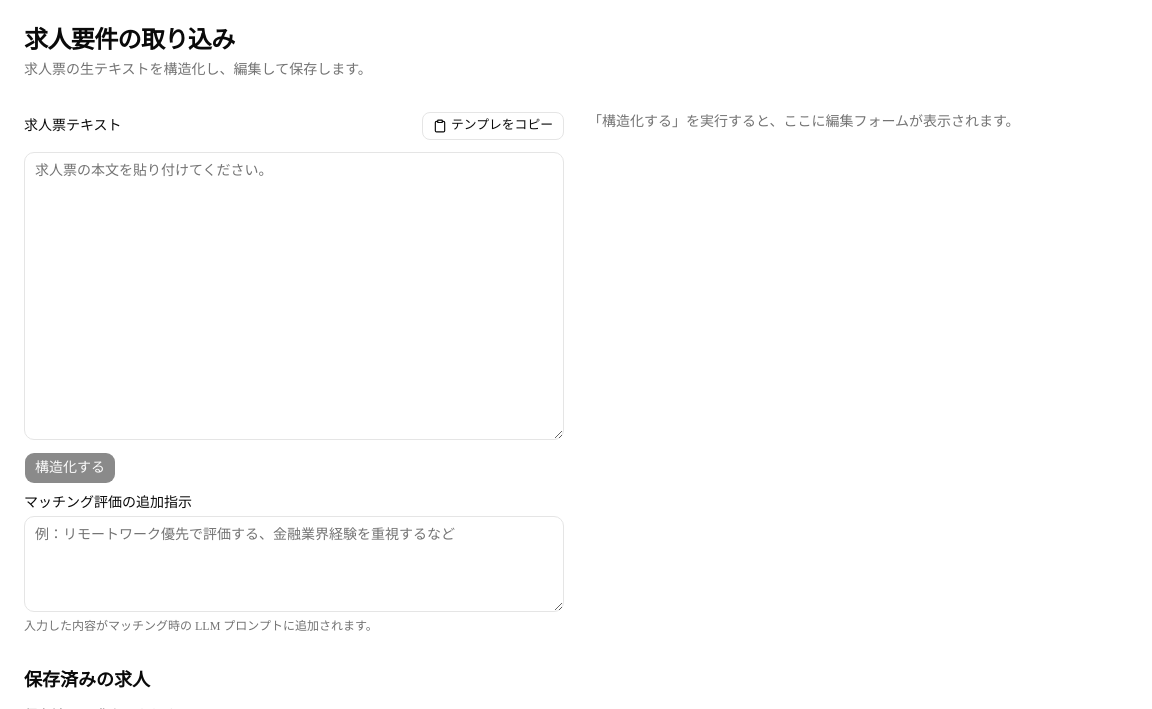
Scenario: parse 失敗系の文言出し分け › PARSE_FAILED のとき専用文言を表示する
In the text box labelled "求人票テキスト": (294, 296) [24,152,564,440], type "テキスト"
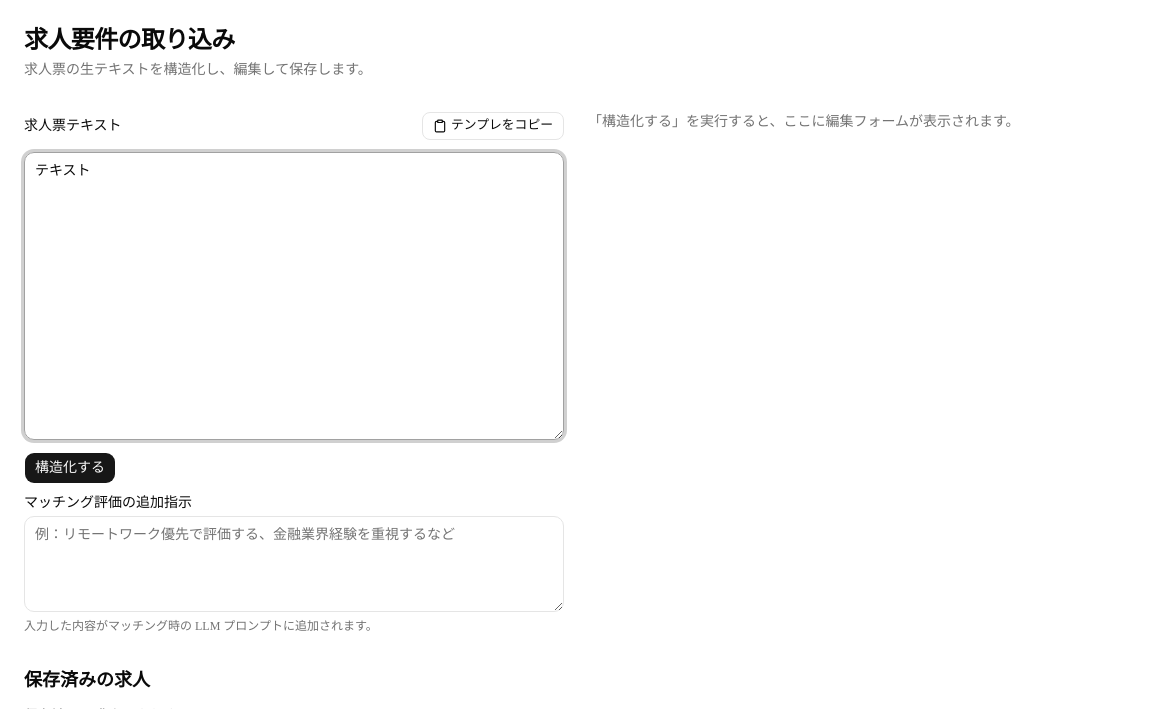
Click the button "構造化する": (70, 468) [24,452,116,484]
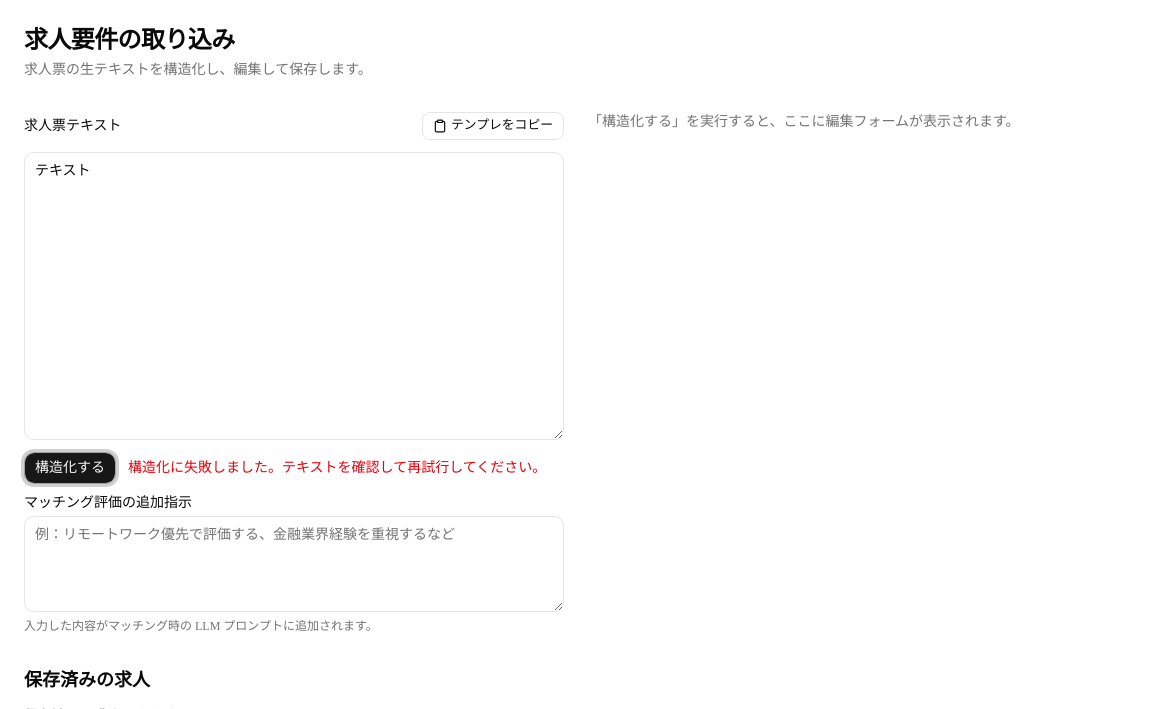
Result: the message reads "構造化に失敗しました。テキストを確認して再試行してください。" at [128,460,546,475]
